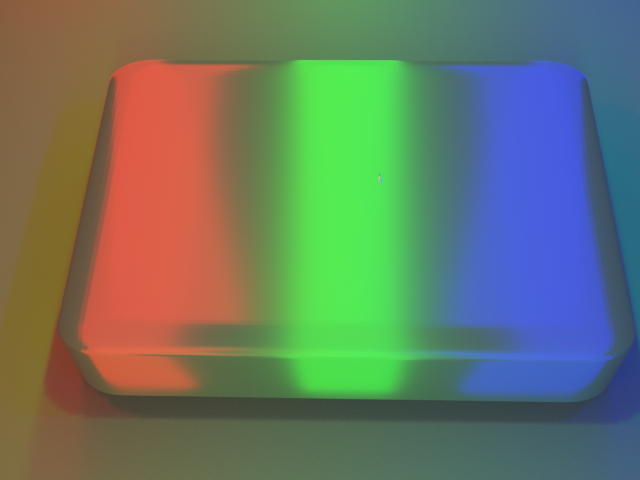scratch: (354, 153, 419, 190)
